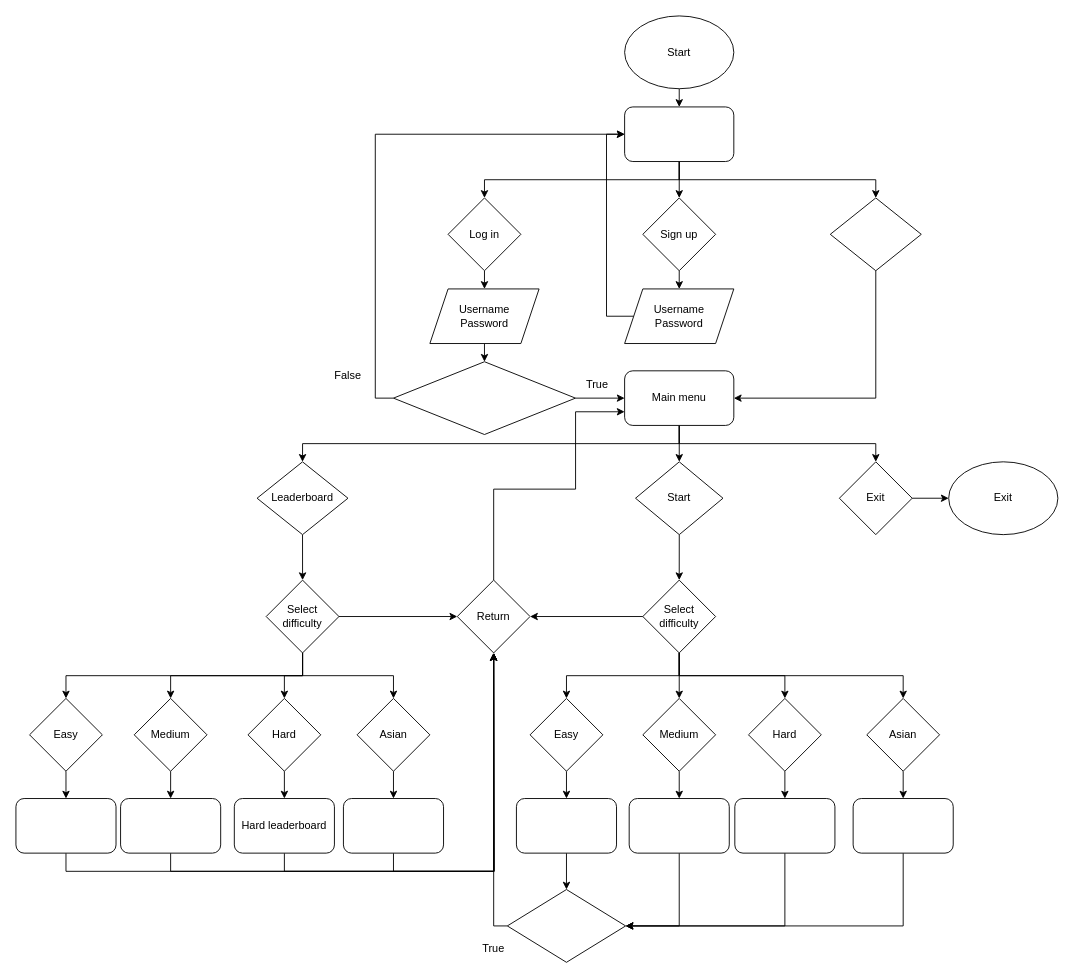
The diagram is 1074 pixels wide and 978 high, and some of its shapes have lost their labels. The box of each missing label's shape, as (x1, y1, x2, y2) in pixels:
Asian game mode: (852, 798, 953, 853)
Asian leaderboard: (343, 798, 444, 853)
Check username and password: (393, 361, 575, 435)
Easy game mode: (516, 798, 617, 853)
Easy leaderboard: (15, 798, 116, 853)
Game finish check: (506, 889, 626, 962)
Hard game mode: (734, 798, 835, 853)
Join screen: (624, 106, 734, 162)
Medium game mode: (628, 798, 729, 853)
Medium leaderboard: (120, 798, 221, 853)
Play as Guest: (829, 197, 921, 271)
